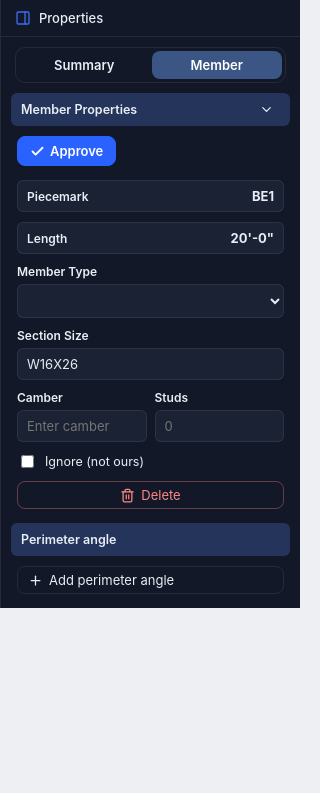
Test case: Add perimeter angle › the form starts as a bent plate when the project's last one was a bent plate
Click the button with test id "add-angle" at (150, 580), box x1=17 y1=566 x2=284 y2=594
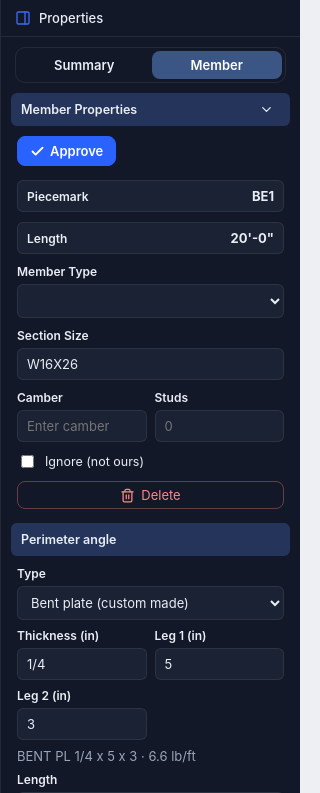
Expected: the field named "bent leg 1" holds "5", x1=154 y1=648 x2=284 y2=680
Expected: the text with test id "bent-preview" shows "BENT PL 1/4 x 5 x 3", x1=17 y1=748 x2=196 y2=764
